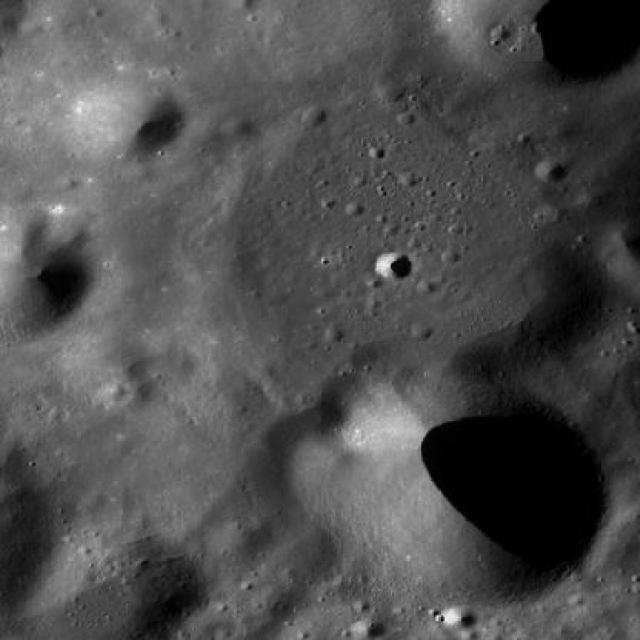crater: (300, 372, 608, 608), (0, 208, 95, 351), (70, 78, 184, 164), (54, 328, 150, 400), (183, 368, 265, 430), (263, 525, 343, 587), (218, 520, 276, 566), (102, 368, 158, 412), (254, 584, 300, 620), (51, 218, 91, 248), (374, 250, 412, 279), (533, 152, 569, 180), (440, 603, 474, 631), (224, 114, 258, 140), (353, 615, 387, 640), (122, 161, 153, 184), (374, 79, 402, 101), (300, 103, 326, 123), (0, 7, 18, 34), (106, 383, 128, 400), (323, 321, 343, 337), (0, 0, 2, 2), (0, 1, 1, 2)
